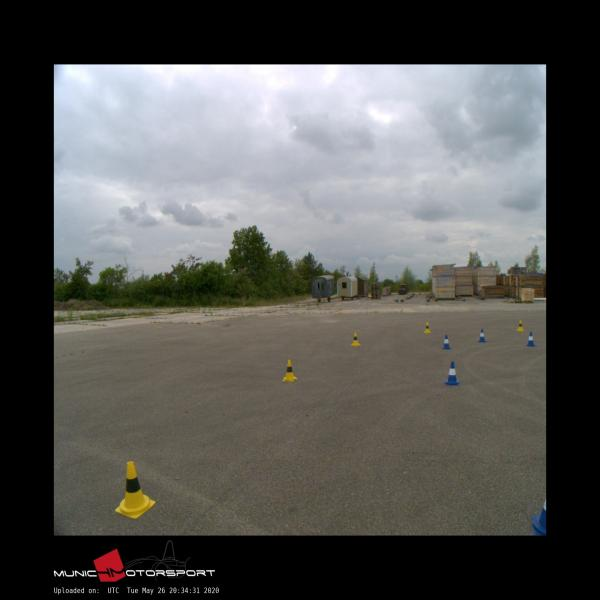blue_cone: (445, 362, 459, 384), (442, 334, 451, 349), (478, 328, 486, 342), (527, 331, 535, 345)
yellow_cone: (116, 462, 156, 518), (282, 360, 297, 380), (350, 332, 360, 346), (516, 320, 524, 331), (423, 322, 430, 332)
